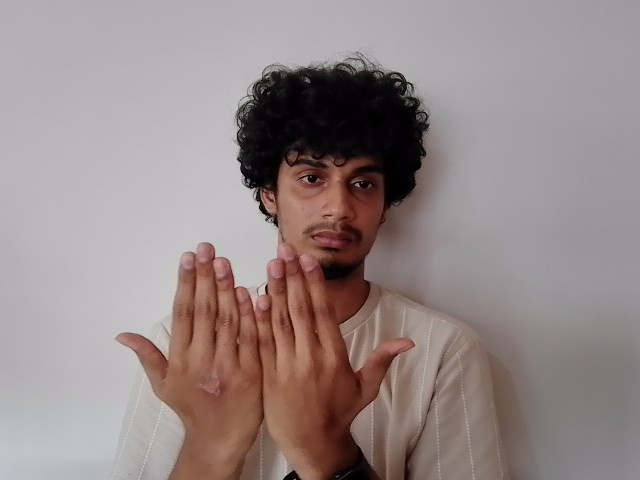school: (115, 242, 415, 442)
